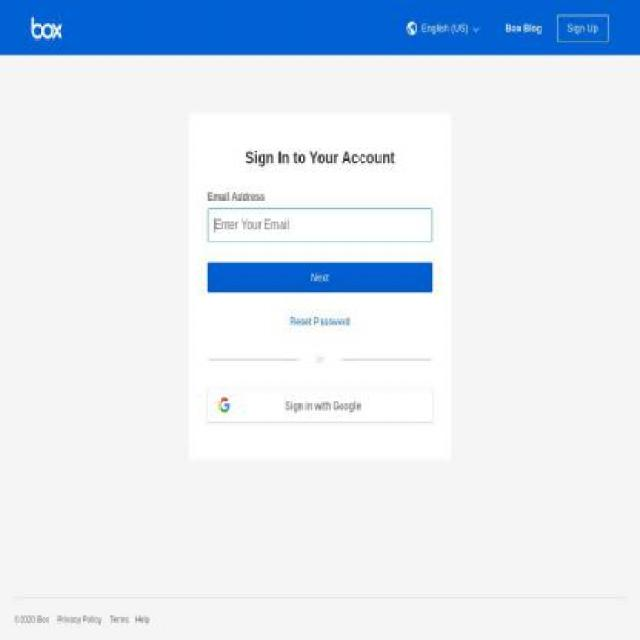button: (208, 388, 432, 422), (208, 262, 432, 293), (505, 0, 543, 57), (31, 0, 62, 55), (556, 14, 609, 41), (289, 313, 351, 330), (406, 21, 482, 33)
field: (208, 208, 432, 242)
